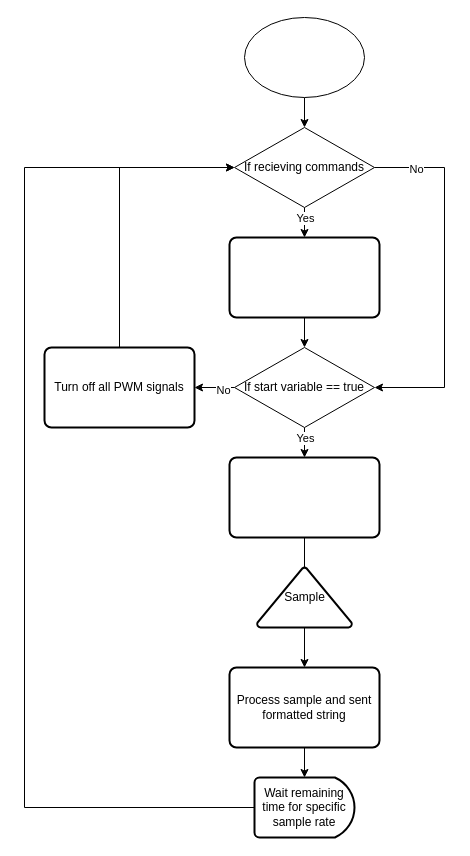
The diagram is 470 pixels wide and 856 high, and some of its shapes have lost their labels. The centre of each missing label's shape, as x and y in pixels:
"Interpret command and set appropriate variables." goes at [304,277].
"Set correct PWM signals" goes at [304,497].
"Setup" goes at [304,57].
